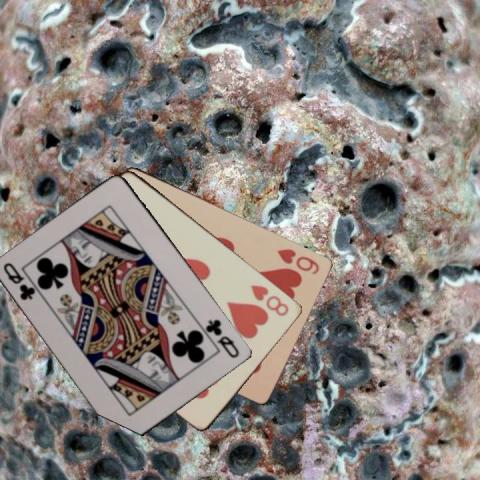6h: (274, 245, 321, 276)
8h: (248, 282, 291, 317)
Qc: (204, 316, 242, 359), (1, 259, 37, 302)
